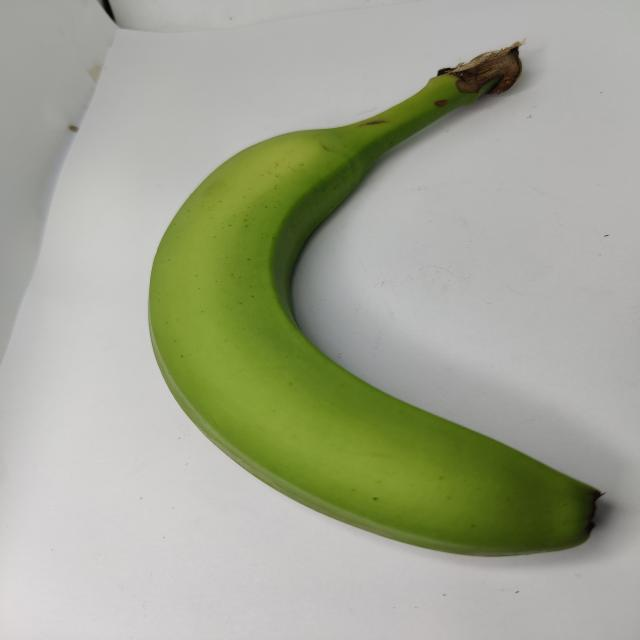raw: (111, 34, 624, 574)
